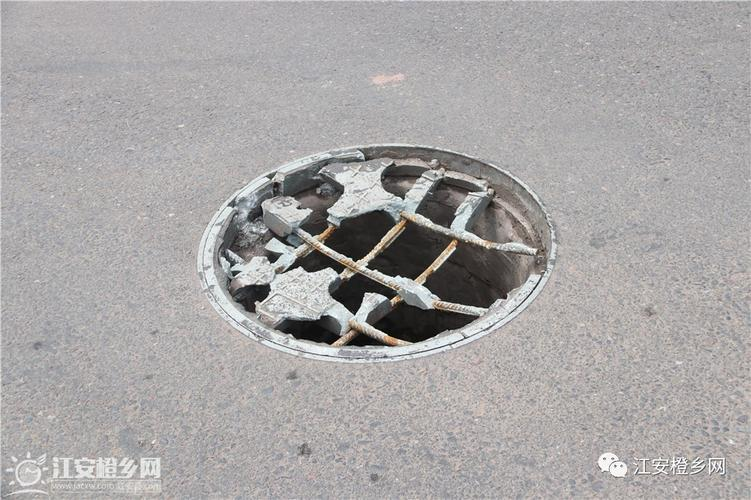broke: (193, 125, 558, 373)
